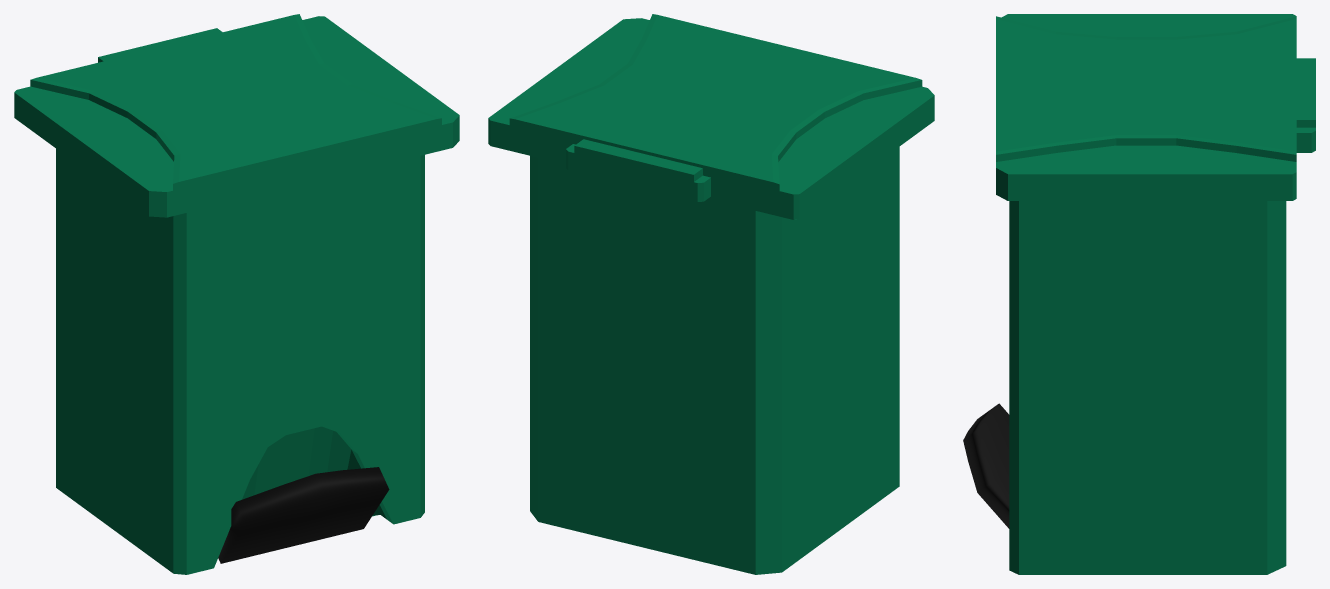
The model's file is Caneca.fbx.
The picture shows the model from 3 angles, left to right: view 1: azimuth 30°, elevation 25°; view 2: azimuth 150°, elevation 25°; view 3: azimuth 270°, elevation 25°; orthographic projection. The views are drawn at different scales.
Visible parts, largest first — view 1: Contenedor, Tapa, Pedal; view 2: Contenedor, Tapa; view 3: Contenedor, Tapa, Pedal.
Boxes of the visible parts, x1,y1,x2,y2 form: Contenedor: [56, 148, 424, 574]; Tapa: [14, 14, 459, 217]; Pedal: [218, 467, 389, 563]; Contenedor: [530, 147, 899, 574]; Tapa: [488, 14, 934, 219]; Contenedor: [1009, 201, 1286, 574]; Tapa: [996, 14, 1315, 200]; Pedal: [963, 403, 1009, 528].
Bounding box in the file's own units: 510 × 641 × 475.
